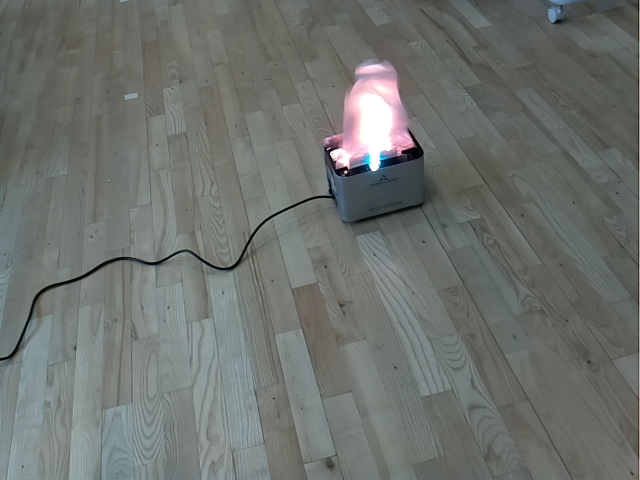fire: (331, 58, 416, 169)
